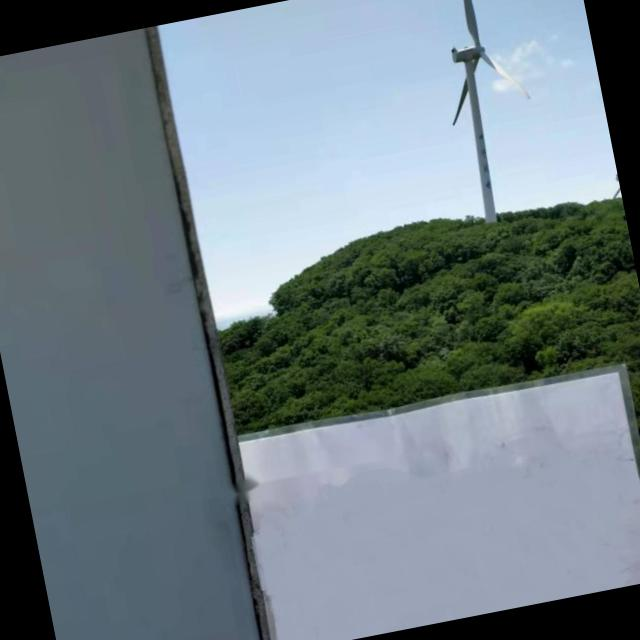crack: (136, 35, 281, 640)
